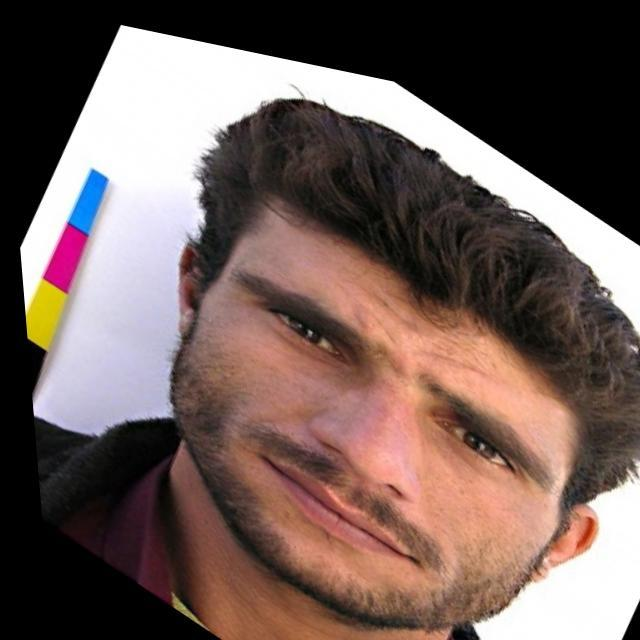Nonhelmet: (160, 79, 628, 639)
